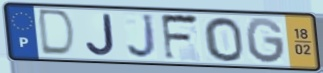D: (38, 8, 78, 59)
F: (159, 12, 202, 63)
G: (244, 16, 287, 66)
J: (125, 12, 159, 61), (83, 12, 117, 58)
O: (202, 16, 246, 63)
